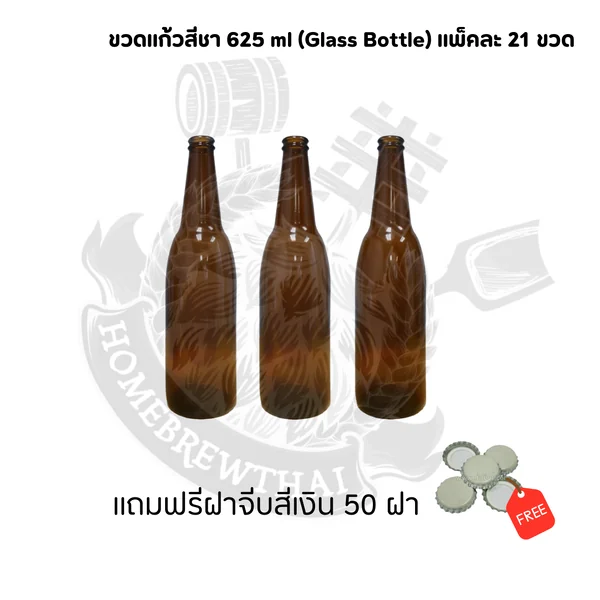glass_bottle: (153, 122, 439, 428)
